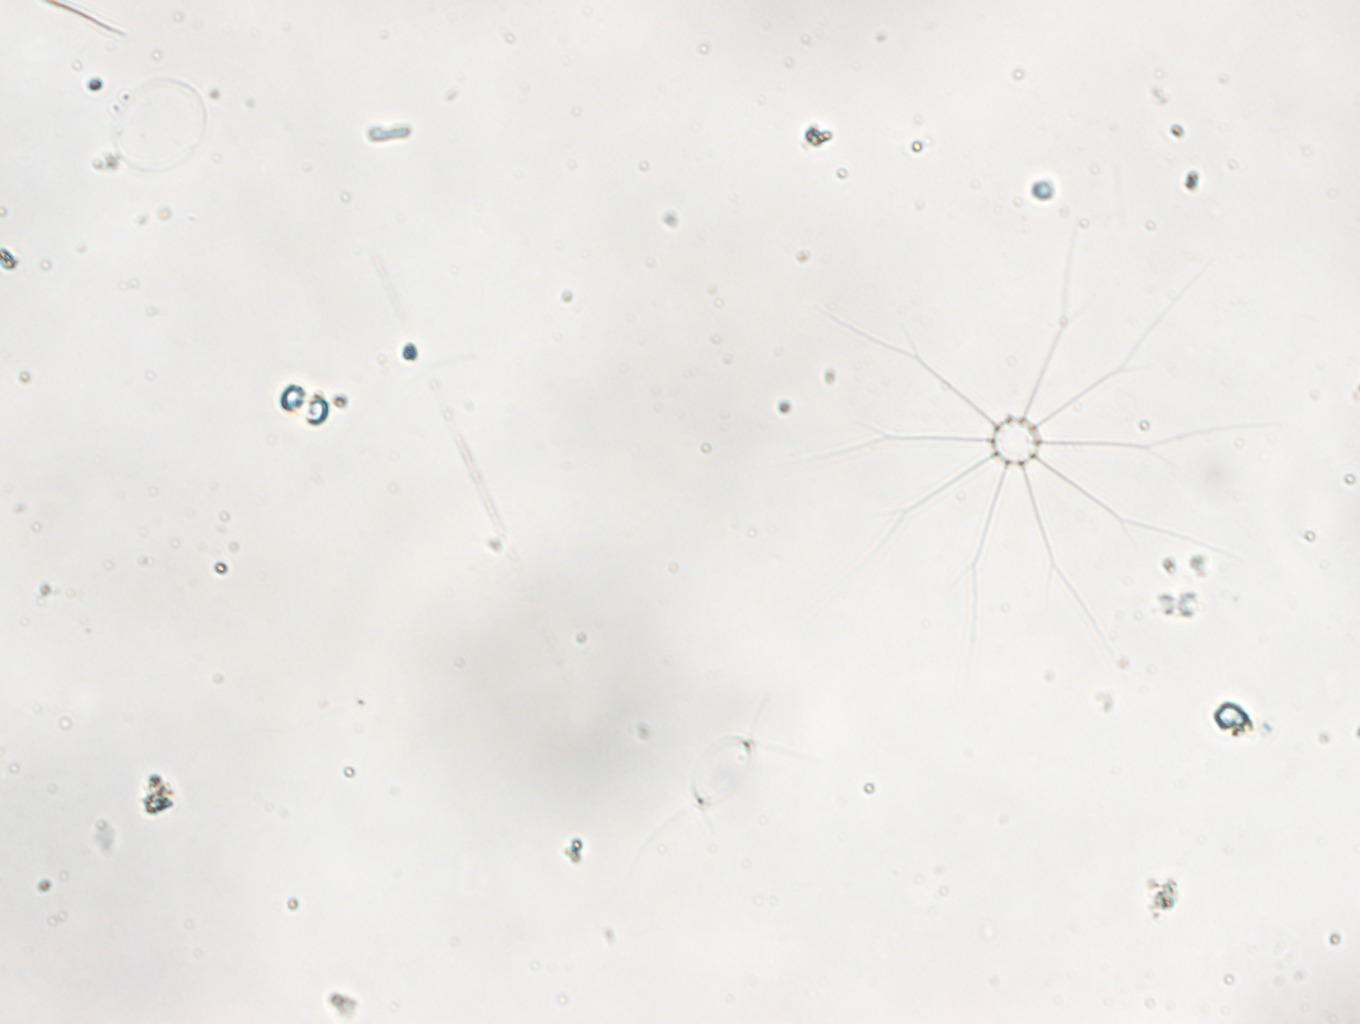bacteriastrum: (811, 210, 1263, 667)
